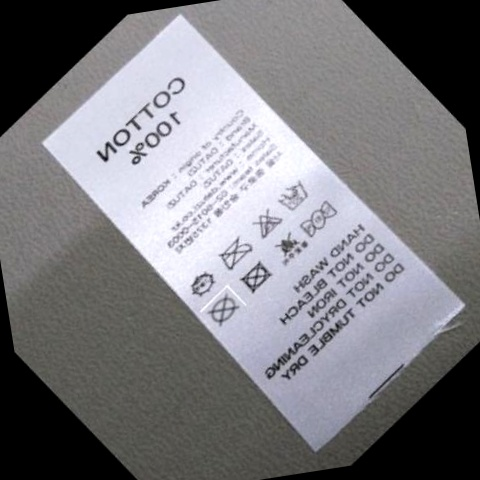DN_dry_clean: (196, 288, 244, 330)
DN_iron: (214, 234, 257, 269)
DN_tumble_dry: (235, 261, 275, 293)
hand_wash: (274, 180, 310, 214)
line_dry_in_shade: (181, 268, 217, 300)
non_chlorine_bleach: (248, 209, 285, 239)
wring: (297, 198, 343, 239)
